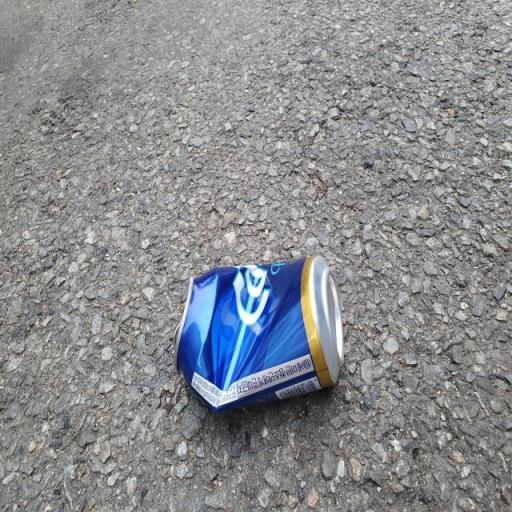metal: (162, 232, 384, 442)
